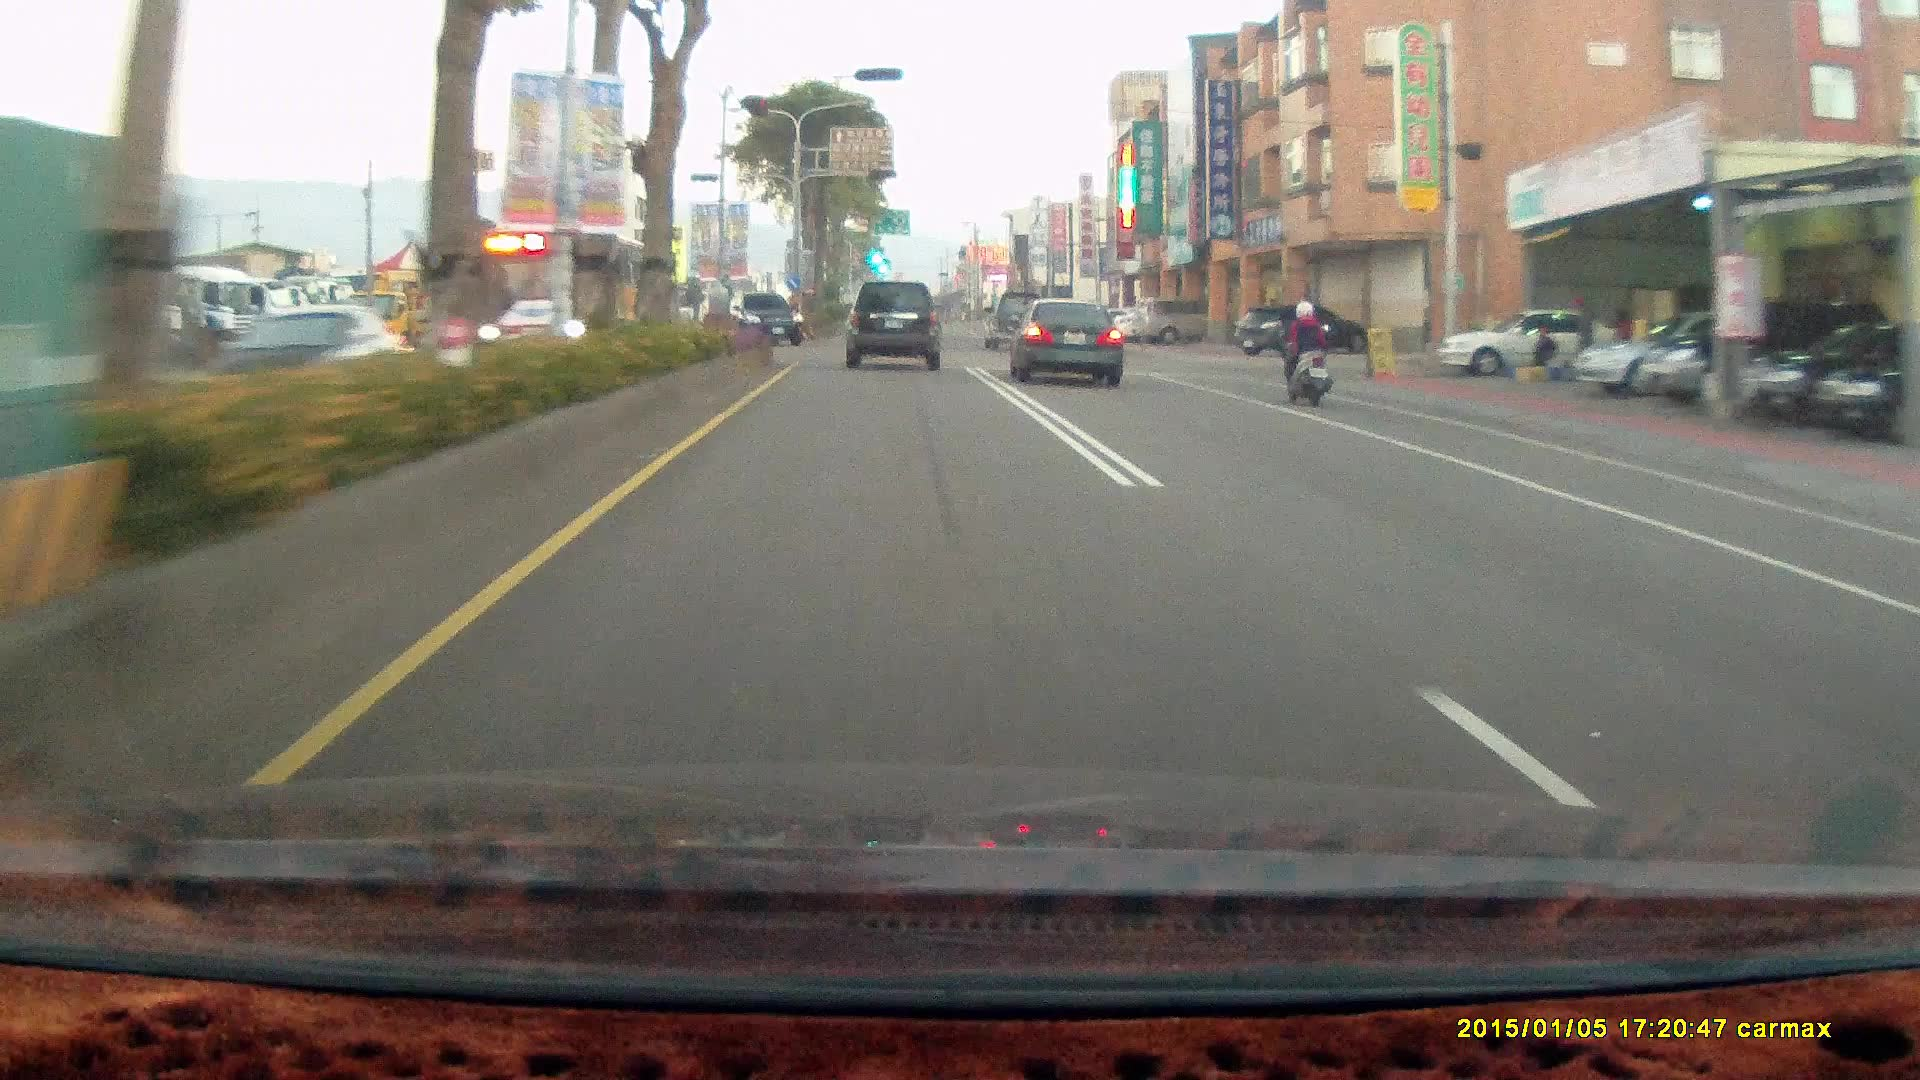pedestrian: (1570, 292, 1594, 373), (1530, 321, 1558, 377)
rider: (1271, 288, 1343, 417), (1274, 294, 1332, 401)
vehicle: (434, 221, 682, 364), (473, 227, 678, 358), (205, 301, 410, 417), (1574, 307, 1810, 396), (1642, 300, 1841, 405), (1576, 305, 1798, 396), (1746, 317, 1920, 424), (1755, 313, 1907, 424), (1425, 307, 1628, 382), (1814, 319, 1920, 450), (1813, 317, 1920, 442), (1435, 306, 1622, 377), (1014, 298, 1133, 394), (1003, 294, 1123, 383), (843, 281, 946, 372), (842, 281, 944, 371), (1233, 304, 1374, 357), (1230, 305, 1367, 359), (720, 290, 804, 350), (720, 290, 804, 348), (1121, 297, 1212, 349), (1130, 295, 1223, 345), (982, 290, 1047, 348)
